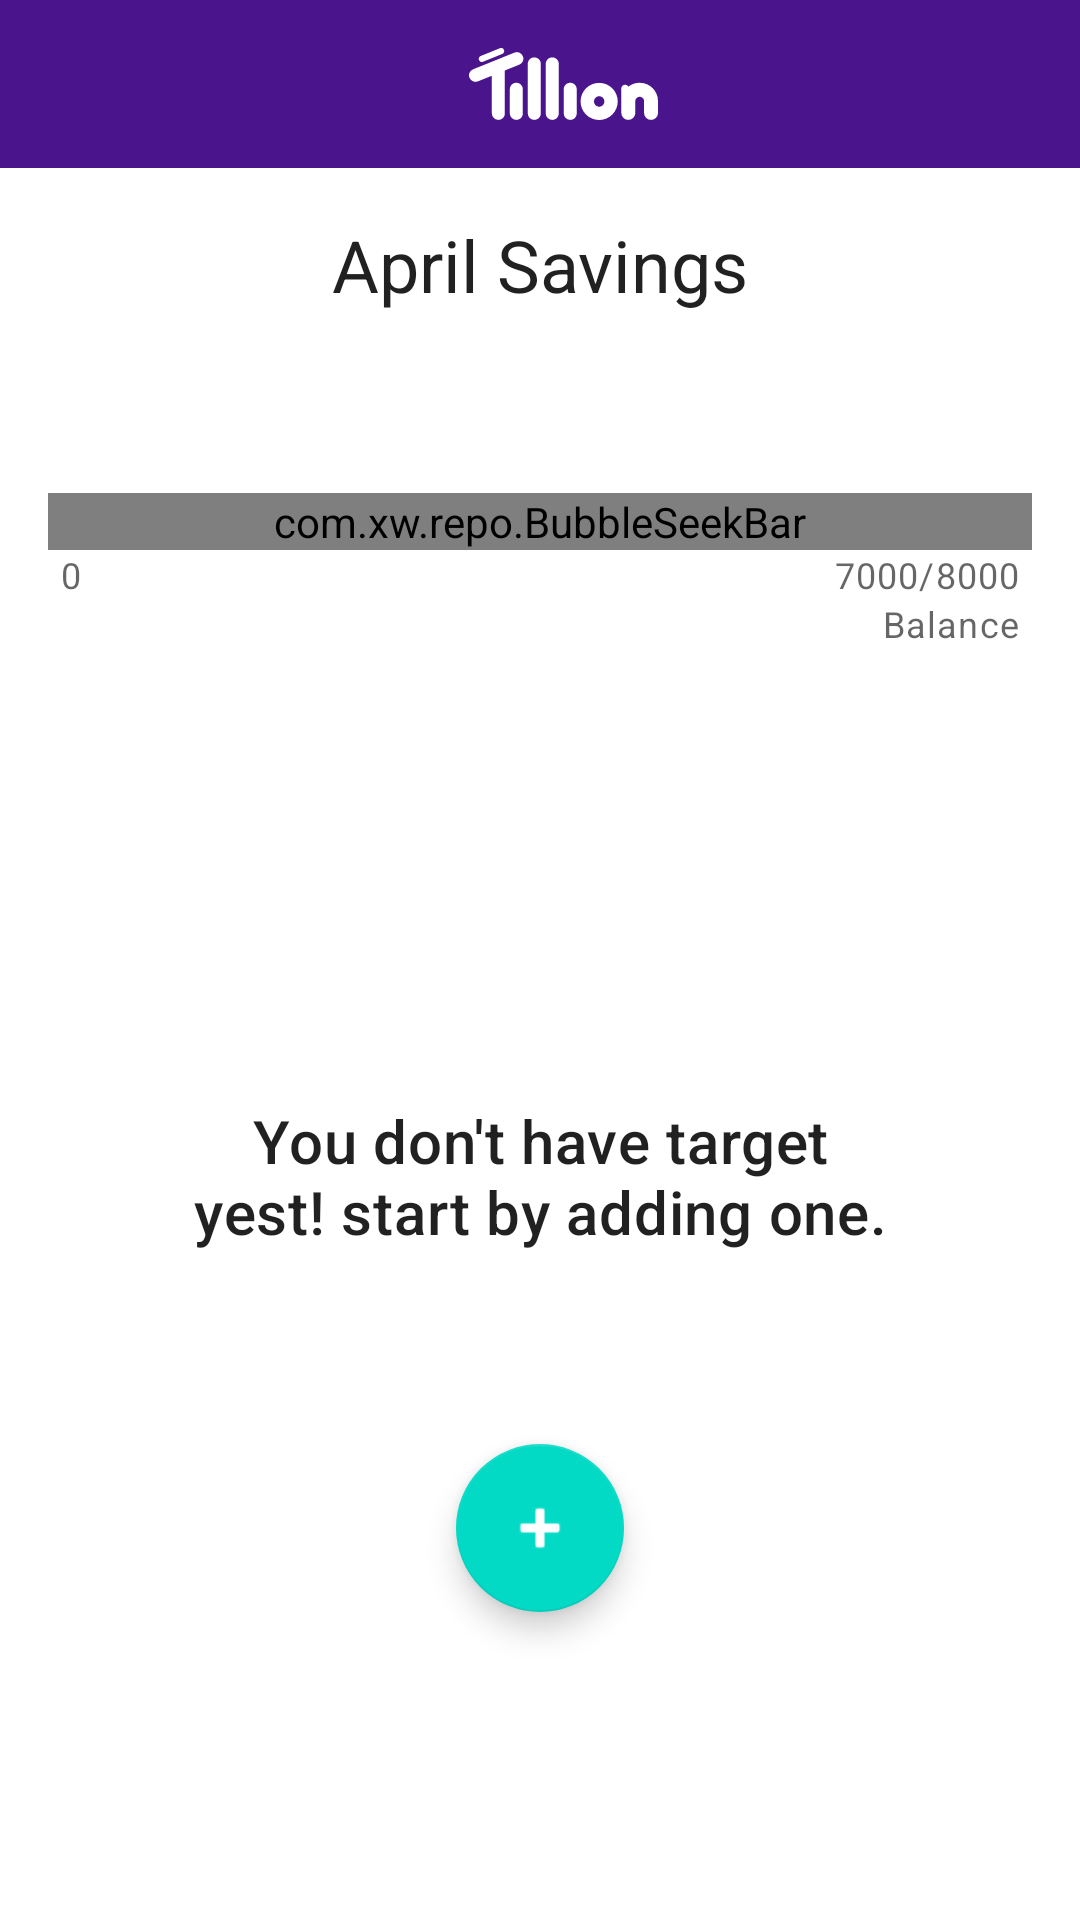

Icons on this 1080x1920 Android screen, each with its box as (x1, y1, x2, y2):
add: (456, 1444, 624, 1612)
